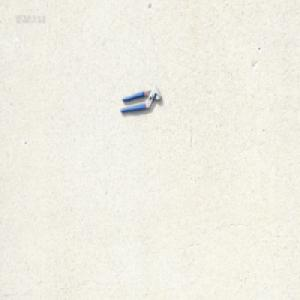Pliers: (118, 85, 161, 113)
